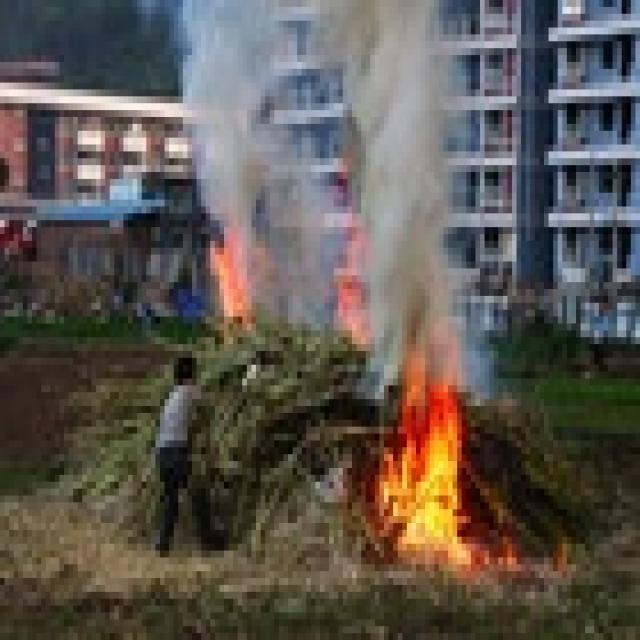Fire: (352, 365, 567, 592), (196, 214, 279, 338)
Smoke: (319, 0, 473, 363), (178, 13, 278, 214)
